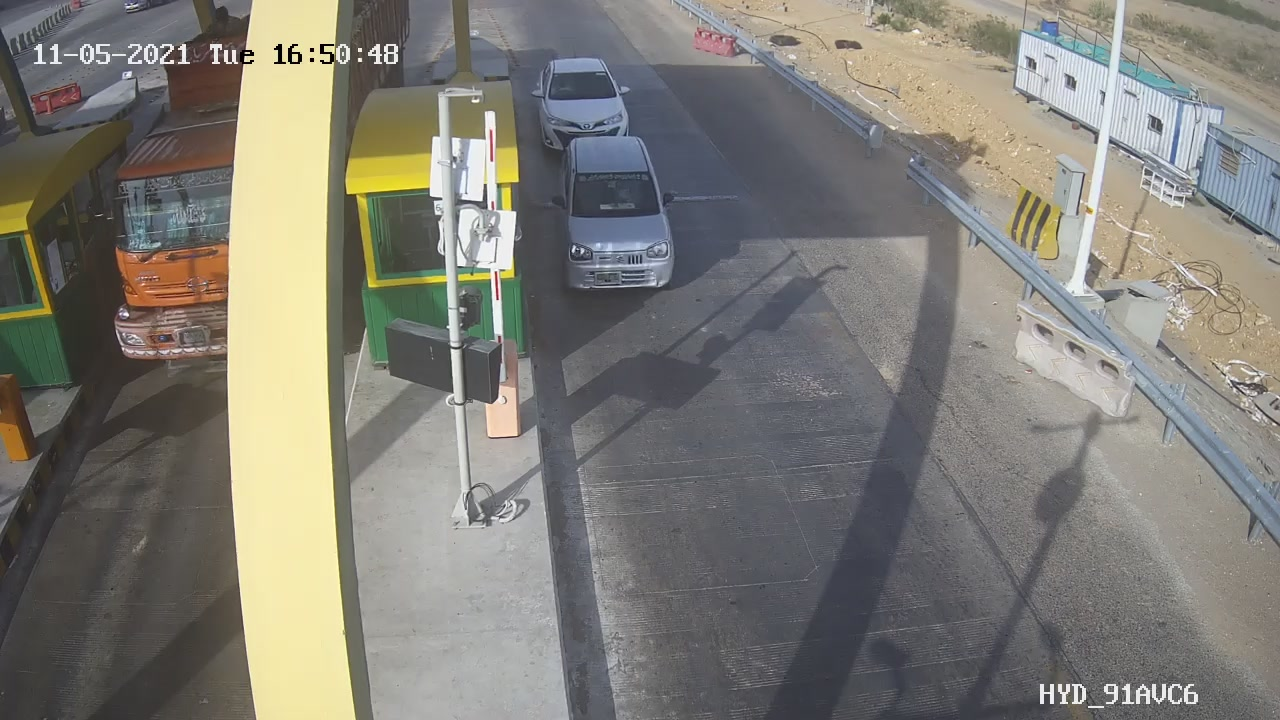F1: (537, 124, 701, 309), (521, 46, 650, 161)
